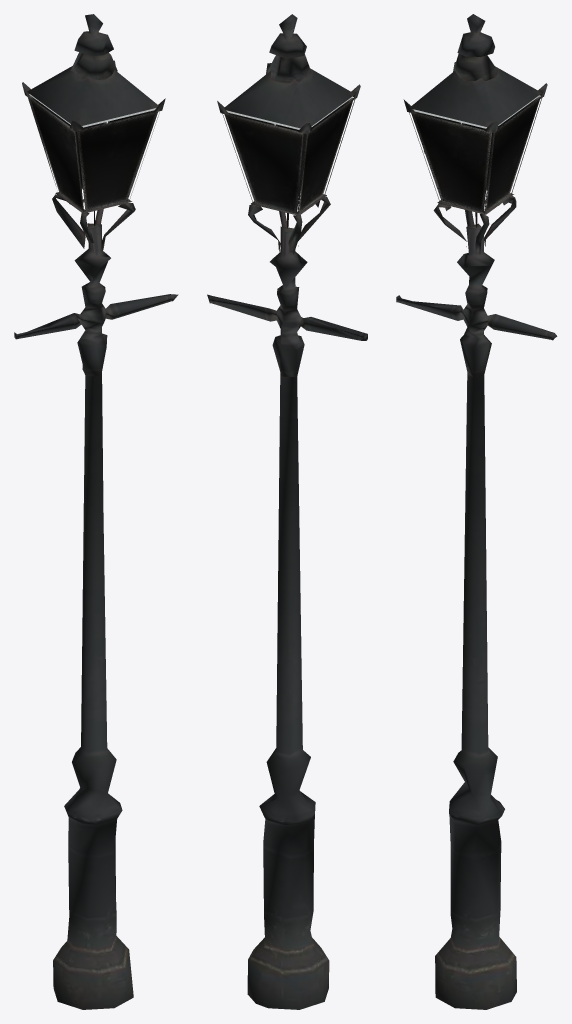
Rendered from p_lamp.glb.
3 renders of one model, left to right at view 1: azimuth 30°, elevation 25°; view 2: azimuth 150°, elevation 25°; view 3: azimuth 330°, elevation 25°, orthographic.
Visible parts, largest first — view 1: street_lamp_01; view 2: street_lamp_01; view 3: street_lamp_01.
Part boxes in pixels (left/top/right/bottom): street_lamp_01: left=14, top=14, right=178, bottom=1009; street_lamp_01: left=207, top=14, right=367, bottom=1009; street_lamp_01: left=396, top=14, right=557, bottom=1009.
Bounding box in the file's own units: 0.6662 × 3.87 × 0.3843.
3 materials, 3 textured.
